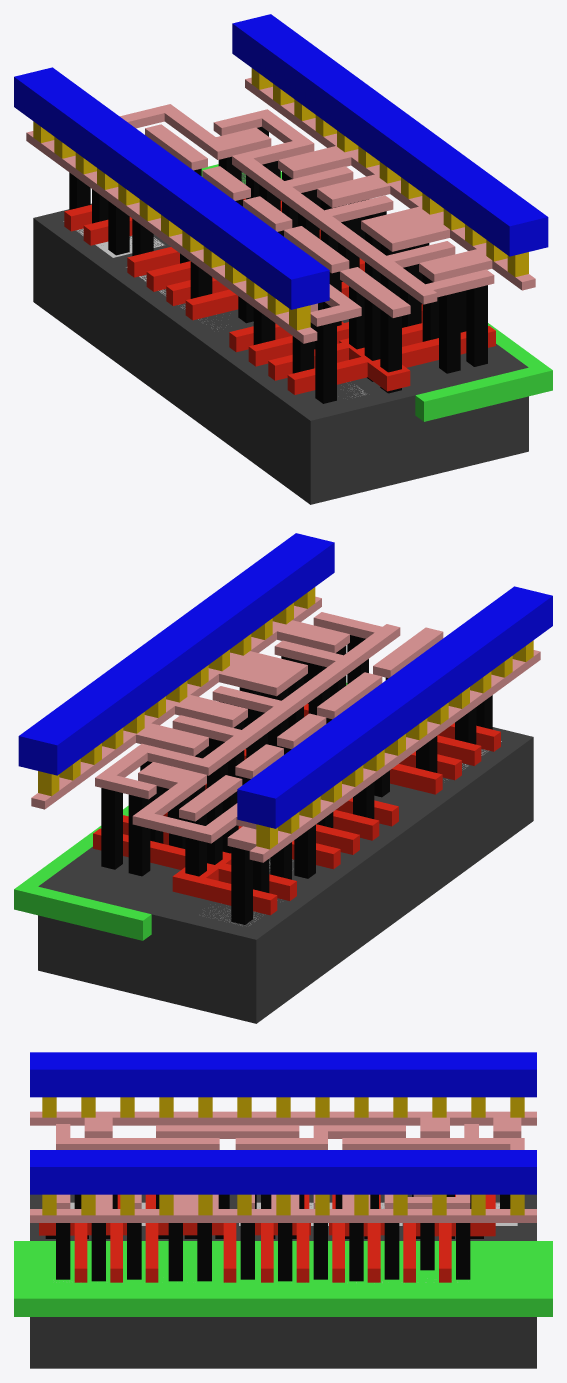
Rendered from sky130_fd_sc_hd__a41oi_2.obj.
The picture shows the model from 3 angles, top to bottom: view 1: azimuth 30°, elevation 25°; view 2: azimuth 150°, elevation 25°; view 3: azimuth 270°, elevation 25°; orthographic projection. The views are drawn at different scales.
Parts seen in each view (by area): view 1: subs, metal1, li, licon, poly, mcon, nwell; view 2: subs, metal1, li, licon, poly, mcon, nwell; view 3: metal1, nwell, subs, li, licon, poly, mcon.
Boxes of the visible parts, bbox=[...] form: subs: bbox=[33, 172, 528, 504]; metal1: bbox=[14, 14, 548, 309]; li: bbox=[26, 77, 535, 343]; licon: bbox=[69, 126, 487, 403]; poly: bbox=[64, 198, 495, 394]; mcon: bbox=[33, 68, 528, 330]; nwell: bbox=[201, 164, 552, 421]; subs: bbox=[38, 727, 533, 1023]; metal1: bbox=[18, 533, 552, 828]; li: bbox=[31, 596, 540, 862]; licon: bbox=[101, 635, 492, 924]; poly: bbox=[93, 703, 500, 915]; mcon: bbox=[38, 587, 533, 849]; nwell: bbox=[14, 682, 347, 940]; metal1: bbox=[30, 1052, 536, 1194]; nwell: bbox=[14, 1241, 552, 1316]; subs: bbox=[30, 1194, 536, 1368]; li: bbox=[30, 1111, 536, 1222]; licon: bbox=[45, 1194, 510, 1281]; poly: bbox=[39, 1194, 495, 1282]; mcon: bbox=[42, 1097, 524, 1215].
Bounding box in the file's own units: 3.2 × 2.74 × 6.36.
